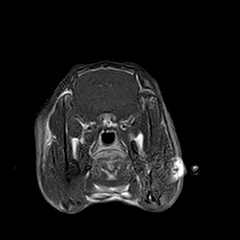Brain: (56, 42, 155, 140)
